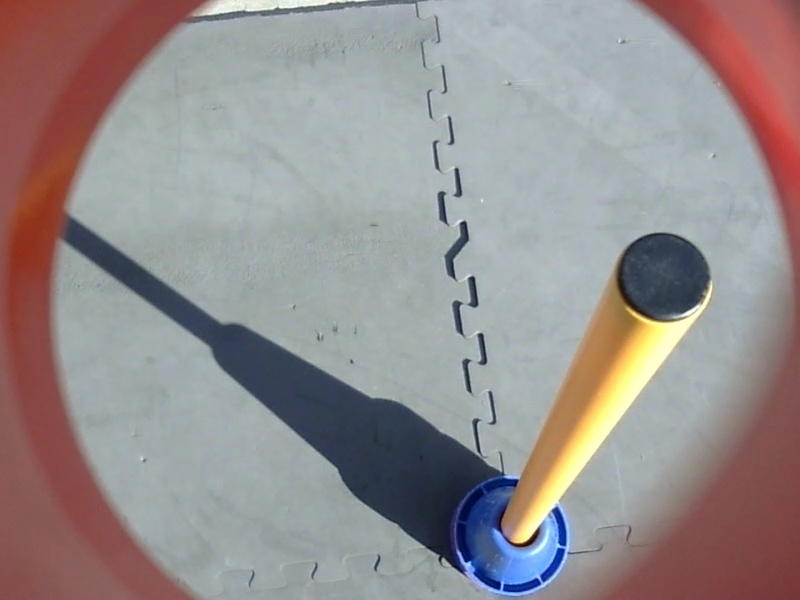tip: (609, 229, 717, 328)
